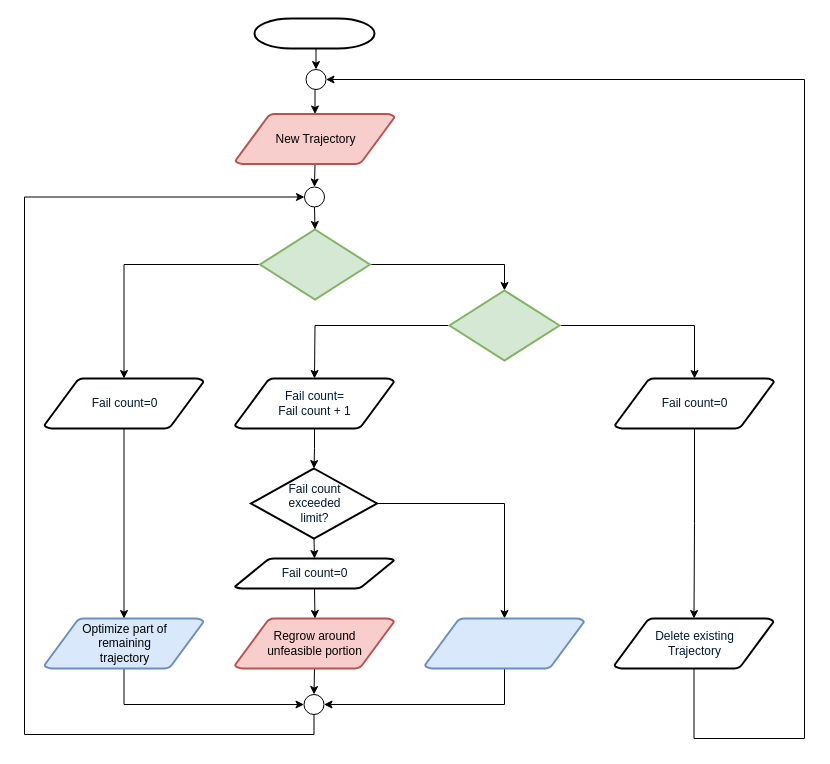
This 830x764 diagram has some shape labels left out. The shapes that lost their labels are listed below. From the top down, each one's centre as x and y in pixels, then its label:
At (314,33): "start".
At (314,264): "Is trajectory Feasible?".
At (504,325): "Feasible in critical time?".
At (504,643): "Optimize around unfeasible portion".
